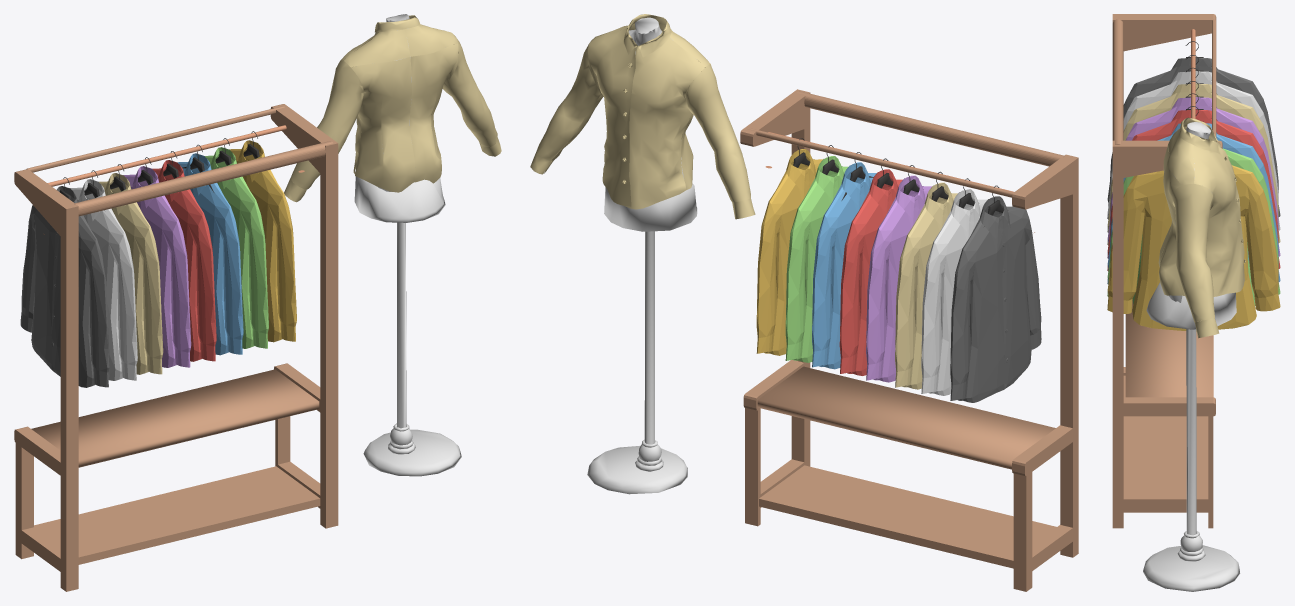
The model's file is Office Wear_shirts.fbx.
3 views of the same model, side by side, from view 1: azimuth 30°, elevation 25°; view 2: azimuth 150°, elevation 25°; view 3: azimuth 270°, elevation 25° (orthographic). The views are drawn at different scales.
Visible parts, largest first — view 1: Object #0.004, Cylinder.011, Shirts_mannequin, Pattern2D_5081.017, Cylinder.017; view 2: Object #0.004, Cylinder.011, Shirts_mannequin, Pattern2D_5081.017; view 3: Object #0.004, Shirts_mannequin, Cylinder.011, Pattern2D_5081.017, Cylinder.017.
Boxes of the visible parts, <box> form: Object #0.004: <box>20,140,296,387</box>; Cylinder.011: <box>14,104,338,591</box>; Shirts_mannequin: <box>284,14,501,476</box>; Pattern2D_5081.017: <box>31,369,319,467</box>; Cylinder.017: <box>47,125,286,186</box>; Object #0.004: <box>756,149,1041,402</box>; Cylinder.011: <box>740,89,1078,591</box>; Shirts_mannequin: <box>530,14,755,494</box>; Pattern2D_5081.017: <box>757,366,1055,469</box>; Object #0.004: <box>1107,57,1280,331</box>; Shirts_mannequin: <box>1143,117,1245,591</box>; Cylinder.011: <box>1112,14,1222,528</box>; Pattern2D_5081.017: <box>1125,299,1213,397</box>; Cylinder.017: <box>1191,29,1195,118</box>.
Size of the model in its own units: 411 by 371 by 128.
